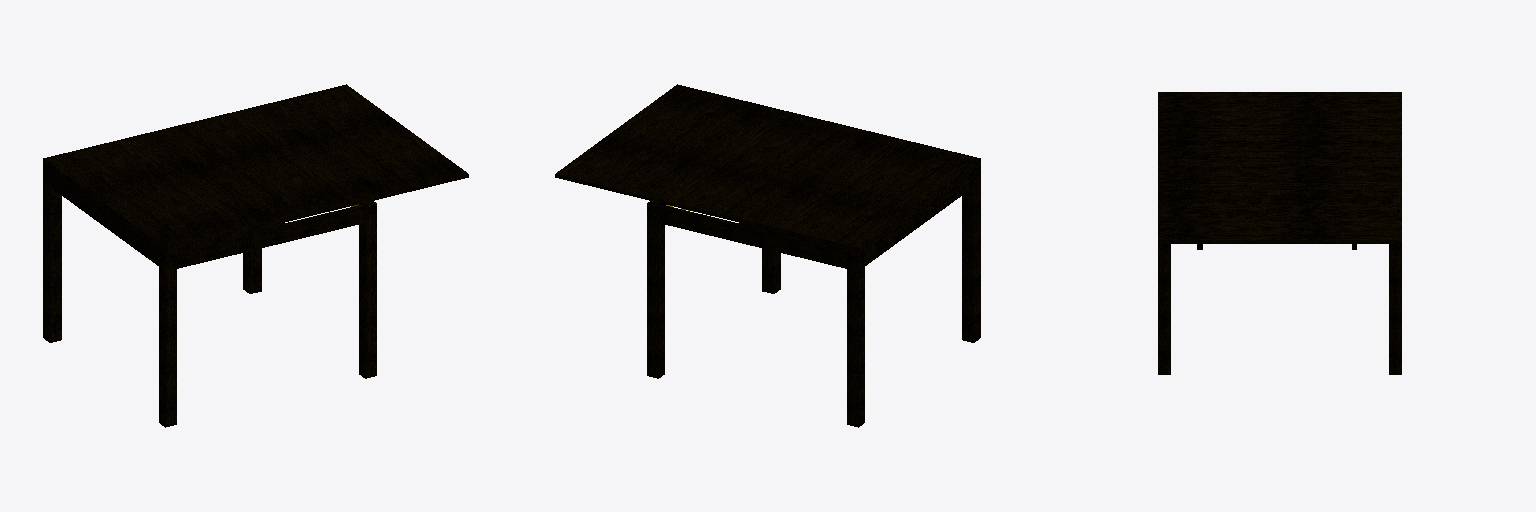
3 renders of one model, left to right at view 1: azimuth 30°, elevation 25°; view 2: azimuth 150°, elevation 25°; view 3: azimuth 270°, elevation 25°, orthographic.
Visible parts, largest first — view 1: Mesh2 Group2 Bjursta_139x90_1 Model, Mesh12 Group8 Group_77_2 Bjursta_139x90_1 Model, Mesh16 Group_75_2 Bjursta_139x90_1 Model, Mesh6 Group6 Bjursta_139x90_1 Model, Mesh3 Group3 Bjursta_139x90_1 Model, Mesh4 Group4 Bjursta_139x90_1 Model, Mesh10 Group_76_1 Bjursta_139x90_1 Model, Mesh1 Group1 Bjursta_139x90_1 Model, Mesh7 Group7 Group_77_1 Bjursta_139x90_1 Model; view 2: Mesh2 Group2 Bjursta_139x90_1 Model, Mesh12 Group8 Group_77_2 Bjursta_139x90_1 Model, Mesh15 Group_75_1 Bjursta_139x90_1 Model, Mesh4 Group4 Bjursta_139x90_1 Model, Mesh1 Group1 Bjursta_139x90_1 Model, Mesh6 Group6 Bjursta_139x90_1 Model, Mesh10 Group_76_1 Bjursta_139x90_1 Model, Mesh3 Group3 Bjursta_139x90_1 Model, Mesh7 Group7 Group_77_1 Bjursta_139x90_1 Model; view 3: Mesh2 Group2 Bjursta_139x90_1 Model, Mesh12 Group8 Group_77_2 Bjursta_139x90_1 Model, Mesh1 Group1 Bjursta_139x90_1 Model, Mesh3 Group3 Bjursta_139x90_1 Model.
Boxes of the visible parts, <box> form: Mesh2 Group2 Bjursta_139x90_1 Model: <box>43,107,376,251</box>; Mesh12 Group8 Group_77_2 Bjursta_139x90_1 Model: <box>256,84,468,199</box>; Mesh16 Group_75_2 Bjursta_139x90_1 Model: <box>177,204,364,268</box>; Mesh6 Group6 Bjursta_139x90_1 Model: <box>159,251,176,427</box>; Mesh3 Group3 Bjursta_139x90_1 Model: <box>359,201,376,378</box>; Mesh4 Group4 Bjursta_139x90_1 Model: <box>43,166,61,342</box>; Mesh10 Group_76_1 Bjursta_139x90_1 Model: <box>51,172,158,265</box>; Mesh1 Group1 Bjursta_139x90_1 Model: <box>243,248,261,293</box>; Mesh7 Group7 Group_77_1 Bjursta_139x90_1 Model: <box>43,162,256,254</box>; Mesh2 Group2 Bjursta_139x90_1 Model: <box>647,107,980,251</box>; Mesh12 Group8 Group_77_2 Bjursta_139x90_1 Model: <box>555,84,767,199</box>; Mesh15 Group_75_1 Bjursta_139x90_1 Model: <box>659,204,846,268</box>; Mesh4 Group4 Bjursta_139x90_1 Model: <box>847,251,864,427</box>; Mesh1 Group1 Bjursta_139x90_1 Model: <box>647,201,664,378</box>; Mesh6 Group6 Bjursta_139x90_1 Model: <box>962,166,980,342</box>; Mesh10 Group_76_1 Bjursta_139x90_1 Model: <box>865,172,972,265</box>; Mesh3 Group3 Bjursta_139x90_1 Model: <box>762,248,780,293</box>; Mesh7 Group7 Group_77_1 Bjursta_139x90_1 Model: <box>767,162,980,254</box>; Mesh2 Group2 Bjursta_139x90_1 Model: <box>1158,92,1401,194</box>; Mesh12 Group8 Group_77_2 Bjursta_139x90_1 Model: <box>1158,195,1401,243</box>; Mesh1 Group1 Bjursta_139x90_1 Model: <box>1389,244,1401,374</box>; Mesh3 Group3 Bjursta_139x90_1 Model: <box>1158,244,1170,374</box>.
Bounding box in the file's own units: 50.79 × 28.75 × 35.44.
3 materials, 2 textured.